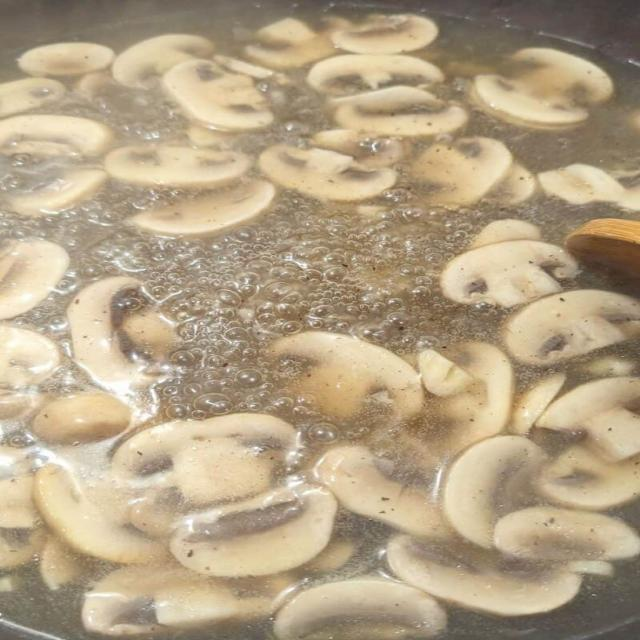champignon mushrooms: (112, 414, 295, 503), (387, 536, 581, 616), (171, 485, 337, 577), (82, 565, 271, 637), (270, 332, 423, 418), (34, 464, 165, 563), (314, 446, 445, 536), (443, 436, 546, 547), (472, 49, 613, 128), (274, 577, 446, 639), (505, 290, 639, 365), (440, 241, 579, 308), (67, 277, 150, 389), (536, 377, 639, 461), (440, 342, 513, 452), (132, 181, 275, 237), (162, 60, 273, 131), (494, 507, 639, 561), (260, 145, 396, 201), (172, 438, 280, 504), (412, 137, 513, 205), (334, 86, 467, 136), (537, 445, 639, 510), (105, 146, 251, 188), (307, 55, 443, 96), (113, 34, 213, 88), (0, 241, 69, 319), (245, 18, 346, 69), (31, 393, 131, 444), (538, 164, 639, 211), (7, 169, 107, 216), (0, 115, 113, 156), (0, 473, 46, 569), (332, 14, 438, 54), (0, 325, 59, 388), (312, 130, 409, 168), (538, 164, 625, 204), (511, 374, 566, 435), (18, 42, 114, 76), (127, 485, 186, 539), (120, 309, 176, 359), (418, 349, 473, 397), (0, 78, 65, 117), (40, 536, 85, 590), (214, 55, 290, 84), (468, 219, 541, 249), (302, 536, 359, 573), (489, 163, 537, 206), (187, 123, 239, 150), (0, 389, 41, 420), (74, 71, 118, 99), (580, 356, 637, 377), (567, 561, 614, 577)
